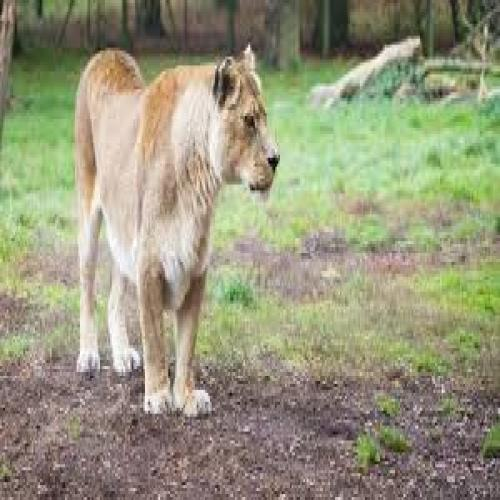lion-endangered: (69, 50, 279, 418)
